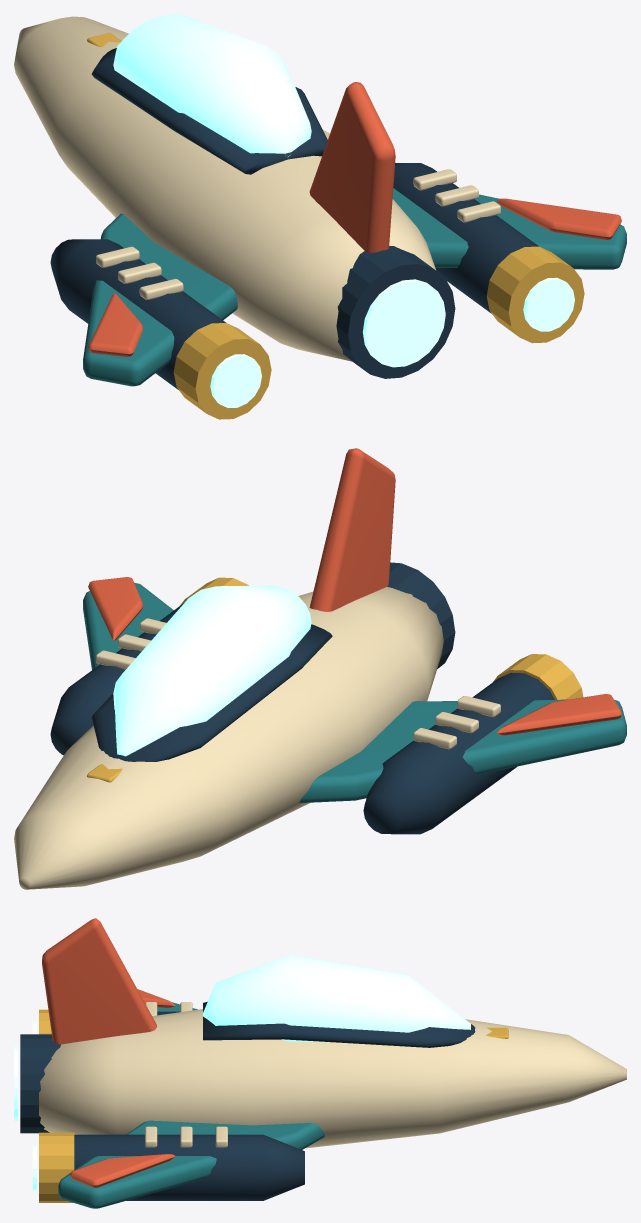
Rendered from rocket-courier.glb.
3 views of the same model, one above another, from view 1: azimuth 30°, elevation 25°; view 2: azimuth 150°, elevation 25°; view 3: azimuth 270°, elevation 25° (orthographic). The views are drawn at different scales.
Visible parts, largest first — view 1: Structure; view 2: Structure; view 3: Structure.
Boxes of the visible parts, bbox=[...] form: Structure: bbox=[14, 14, 626, 419]; Structure: bbox=[14, 448, 626, 889]; Structure: bbox=[14, 918, 626, 1208].
Size of the model in its own units: 2.42 by 1.18 by 2.95.
